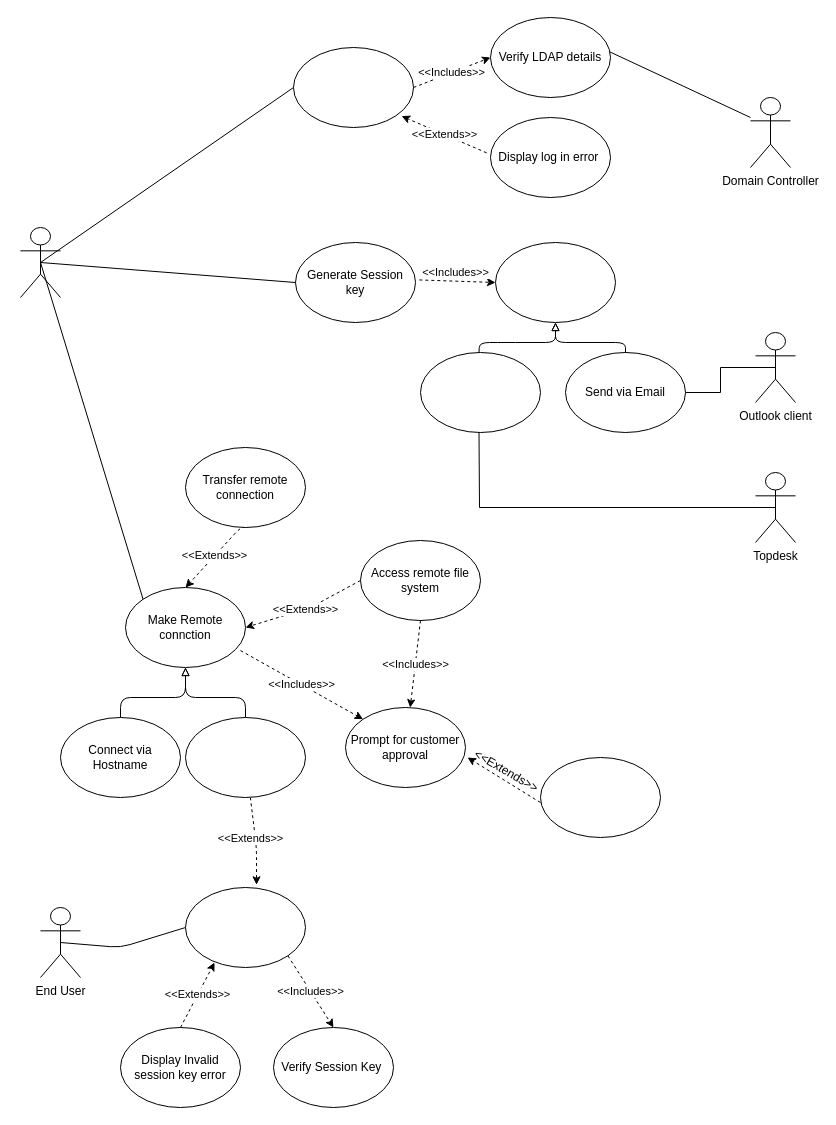
The diagram is 836 pixels wide and 1125 high, and some of its shapes have lost their labels. Each missing label, with the centre of its shape:
Connect to requested session: the point at 245,757
Display declined approval error: the point at 600,797
Log in: the point at 353,87
Operator: the point at 40,262
Request Support Session: the point at 245,927
Send Session Key to user: the point at 555,282
Send via Ticketing system: the point at 480,392
